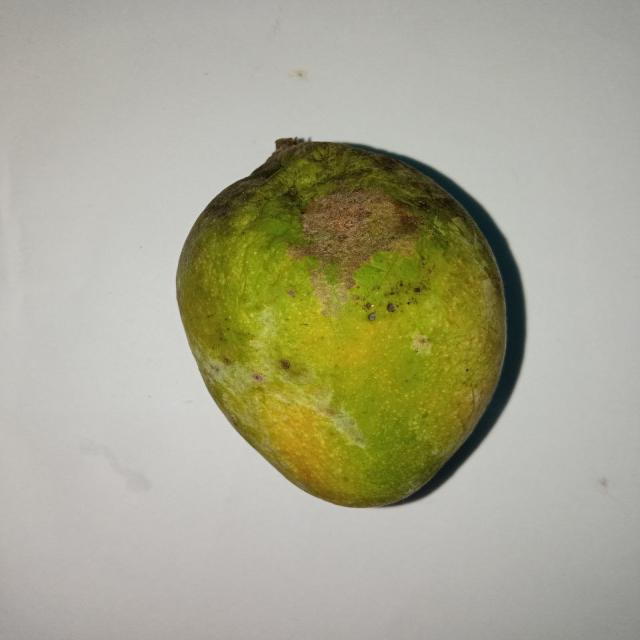rotten_mango: (174, 136, 509, 506)
